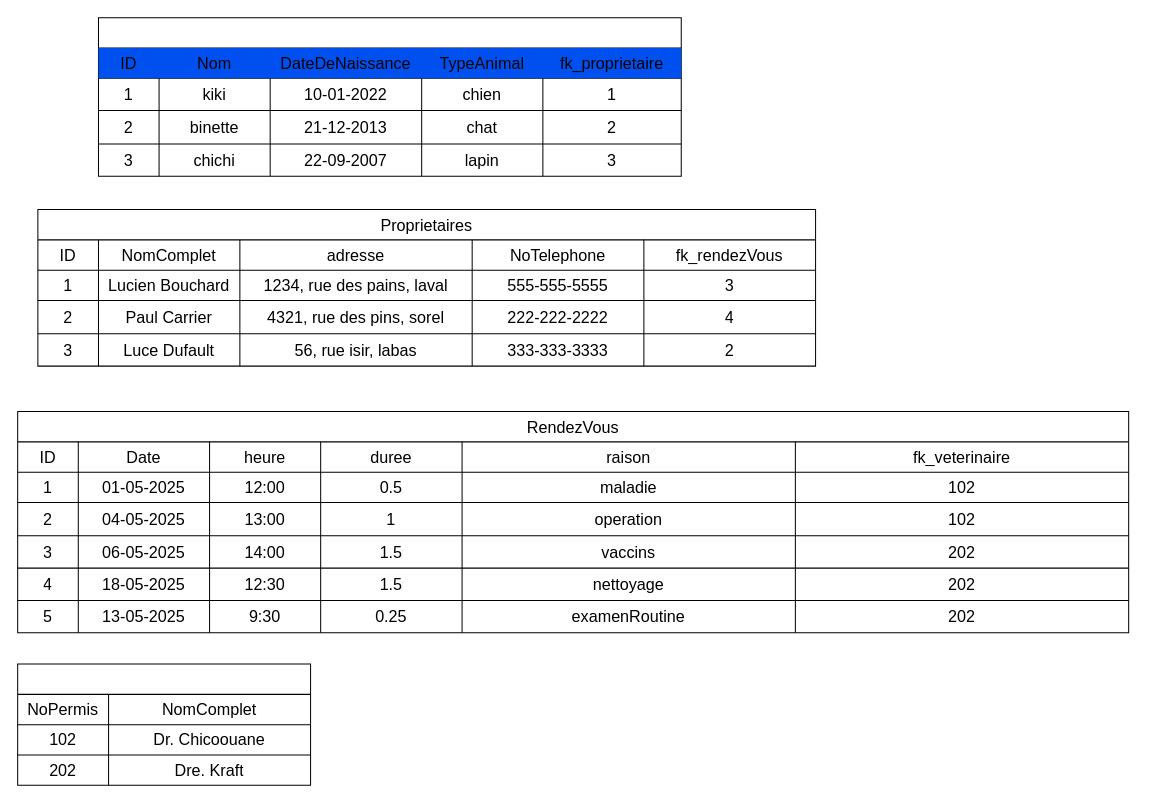
The diagram is 1154 pixels wide and 803 high, and some of its shapes have lost their labels. Here are the shapes that lost their labels. From the top down, the box of each, then its label:
(97, 17, 681, 176): Animaux
(17, 663, 311, 785): Veterinaires
